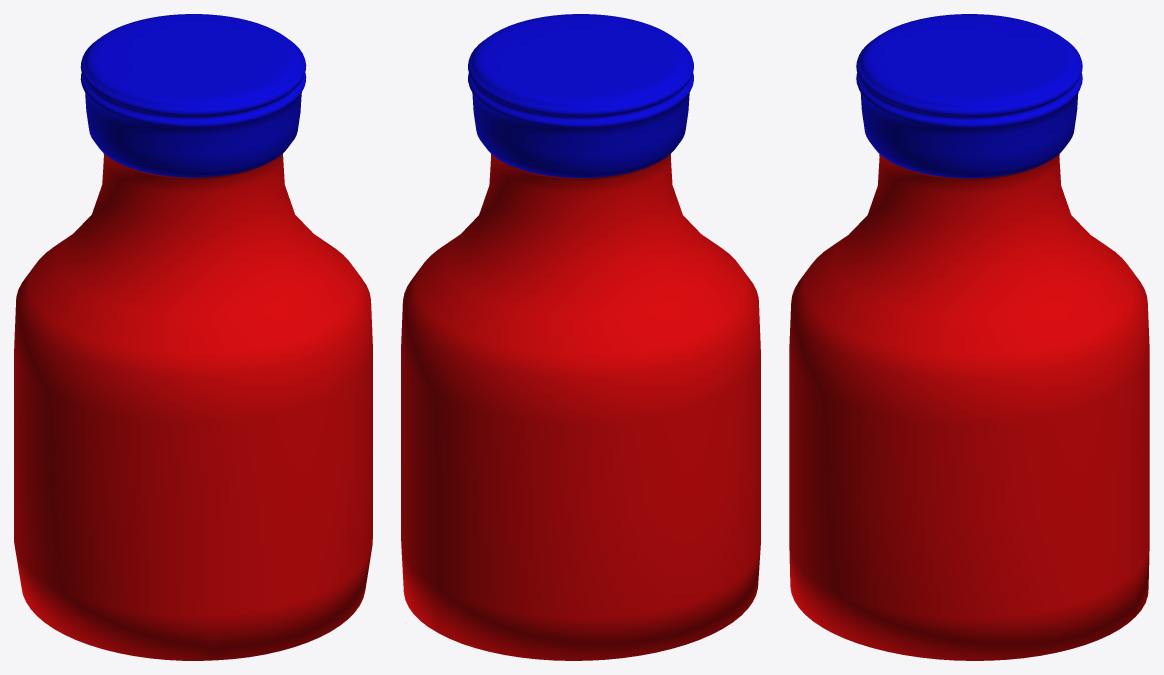
File: NCR Bottle 2.fbx
The picture shows the model from 3 angles, left to right: view 1: azimuth 30°, elevation 25°; view 2: azimuth 150°, elevation 25°; view 3: azimuth 270°, elevation 25°; orthographic projection.
Parts seen in each view (by area): view 1: Alcohol Bottle 2; view 2: Alcohol Bottle 2; view 3: Alcohol Bottle 2.
Boxes of the visible parts, x1=… form: Alcohol Bottle 2: x1=14, y1=14, x2=372, y2=660; Alcohol Bottle 2: x1=401, y1=14, x2=760, y2=660; Alcohol Bottle 2: x1=789, y1=14, x2=1149, y2=660.
Bounding box in the file's own units: 21.88 × 35.51 × 21.88.
